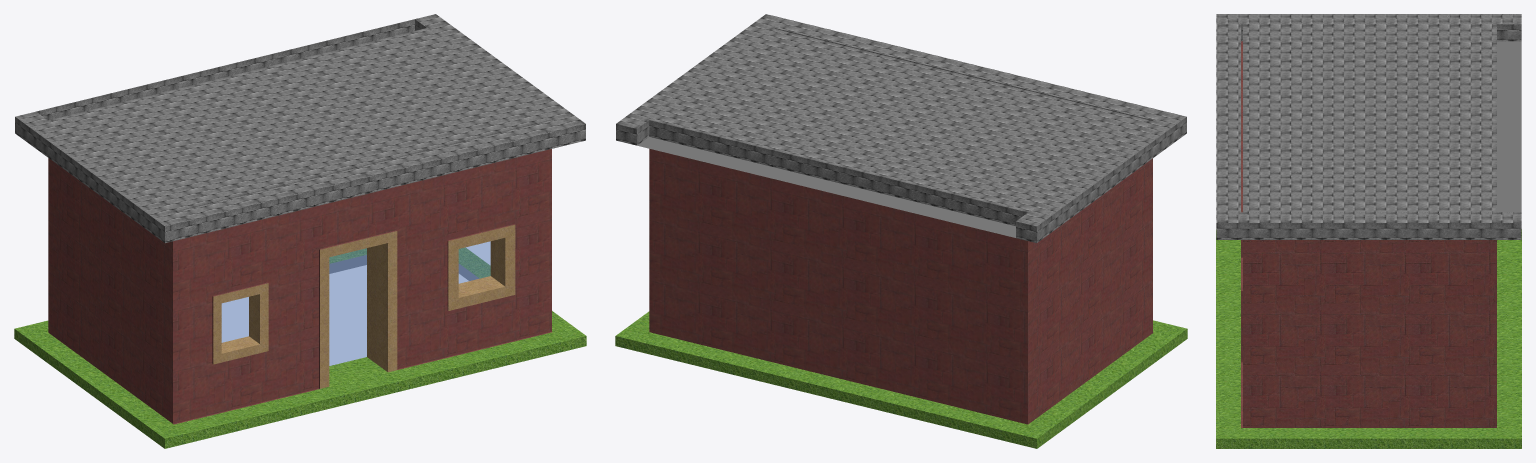
File: bipad.gltf
3 views of the same model, side by side, from view 1: azimuth 30°, elevation 25°; view 2: azimuth 150°, elevation 25°; view 3: azimuth 270°, elevation 25° (orthographic).
Parts seen in each view (by area): view 1: root; view 2: root; view 3: root.
Boxes of the visible parts, x1,y1,x2,y2 form: root: [14, 14, 586, 448]; root: [615, 14, 1187, 448]; root: [1216, 14, 1521, 448].
Size of the model in its own units: 27.04 by 13.62 by 16.71.
6 materials, 4 textured.
